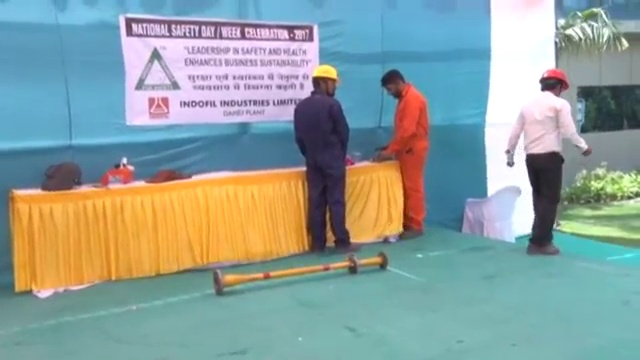helmet: (540, 67, 569, 90), (311, 63, 341, 82)
helmet_off: (378, 69, 411, 100)
helmet_on: (309, 61, 341, 100), (538, 66, 569, 96)
person: (505, 66, 591, 256), (290, 61, 362, 252), (376, 68, 429, 241)
